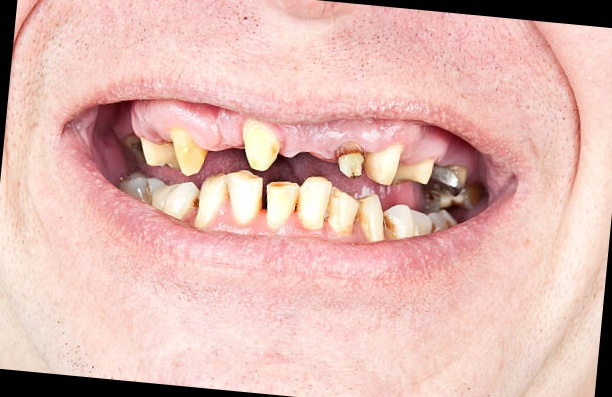Caries: (329, 142, 373, 183), (259, 170, 315, 201)
